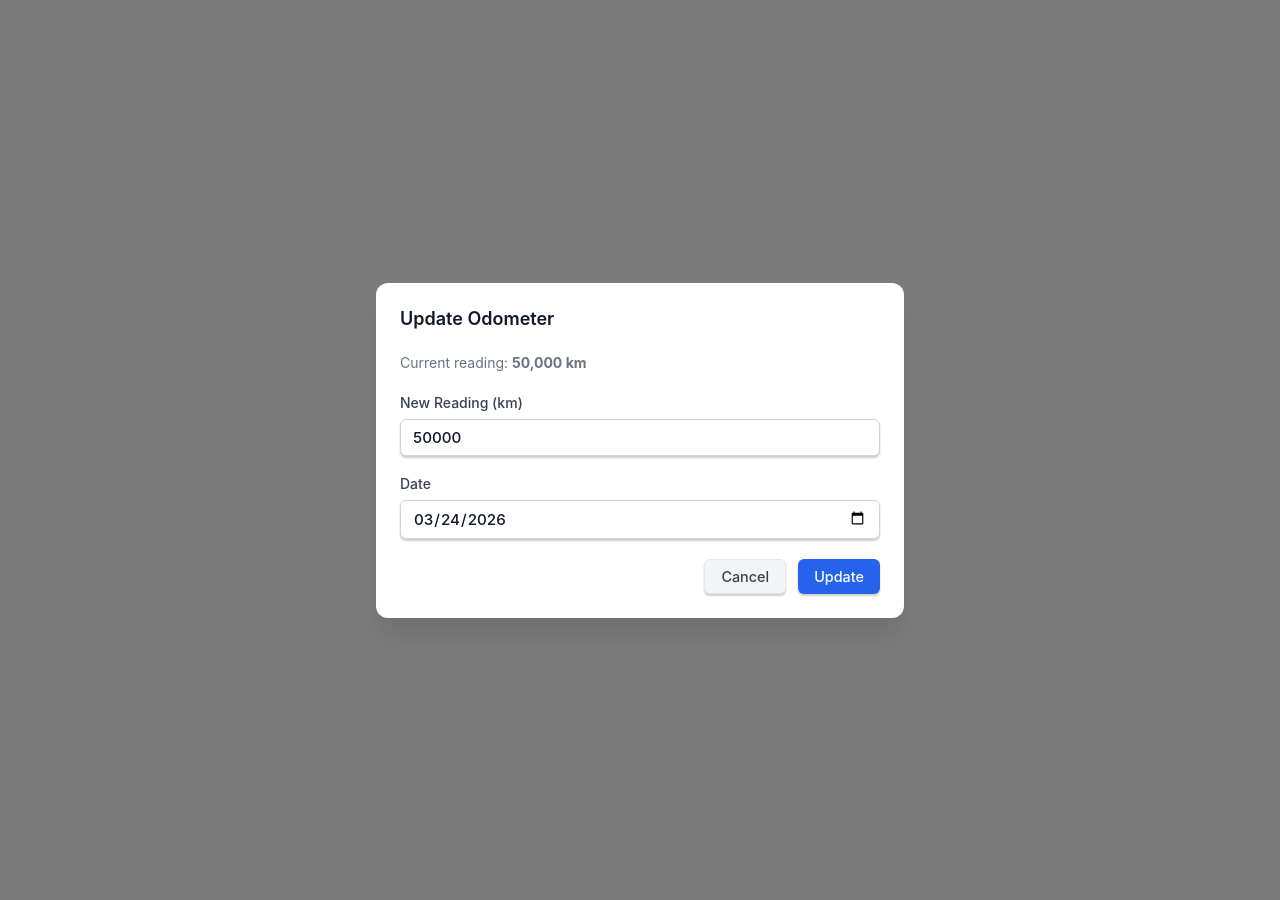
Test: UpdateOdometer › shows inline error when new reading is less than current odometer
Replace the text in the number field with test id "input-reading" with "40000" at (640, 437), box [400,418,880,456]
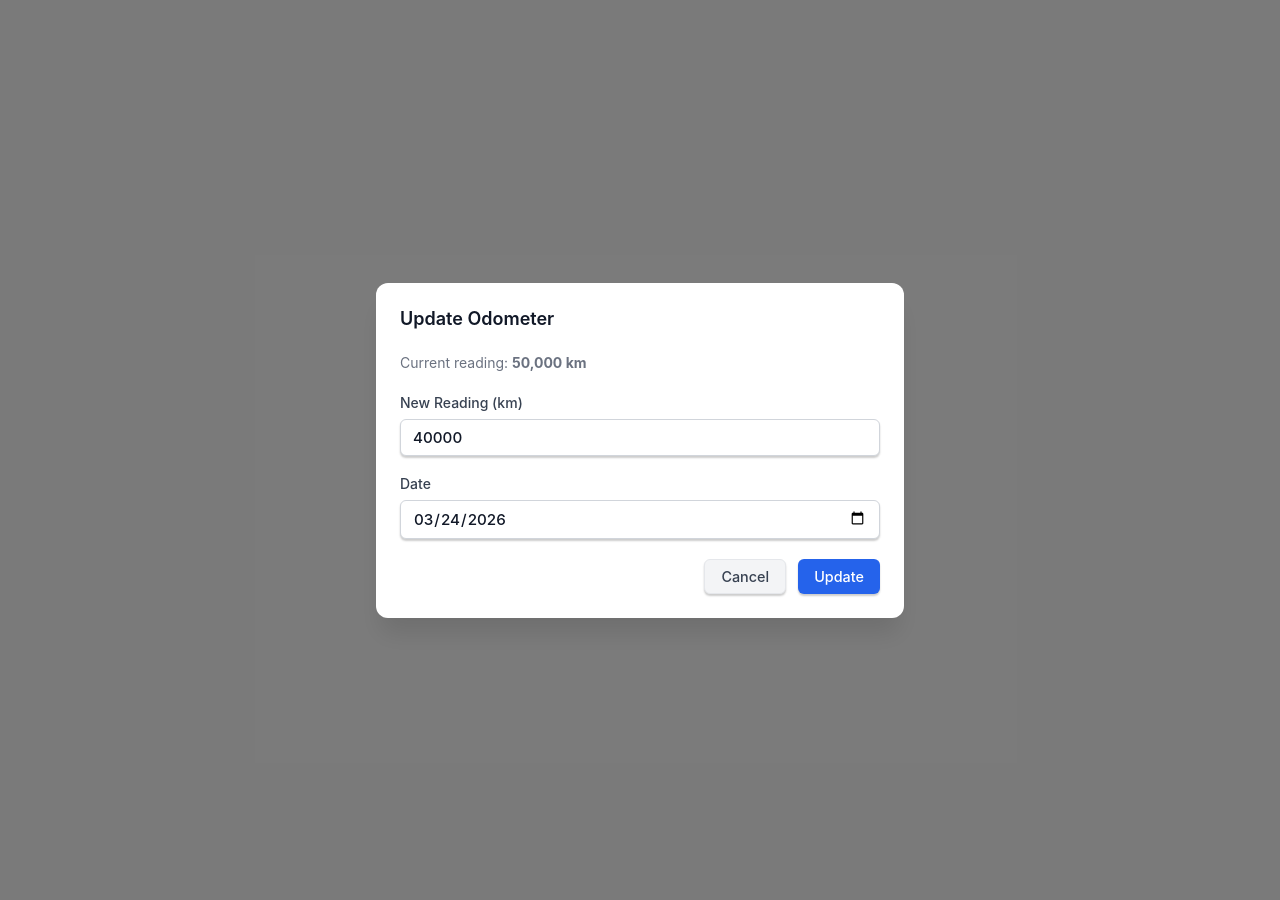
Click the button with test id "btn-submit" at (839, 576), box [798,558,880,594]
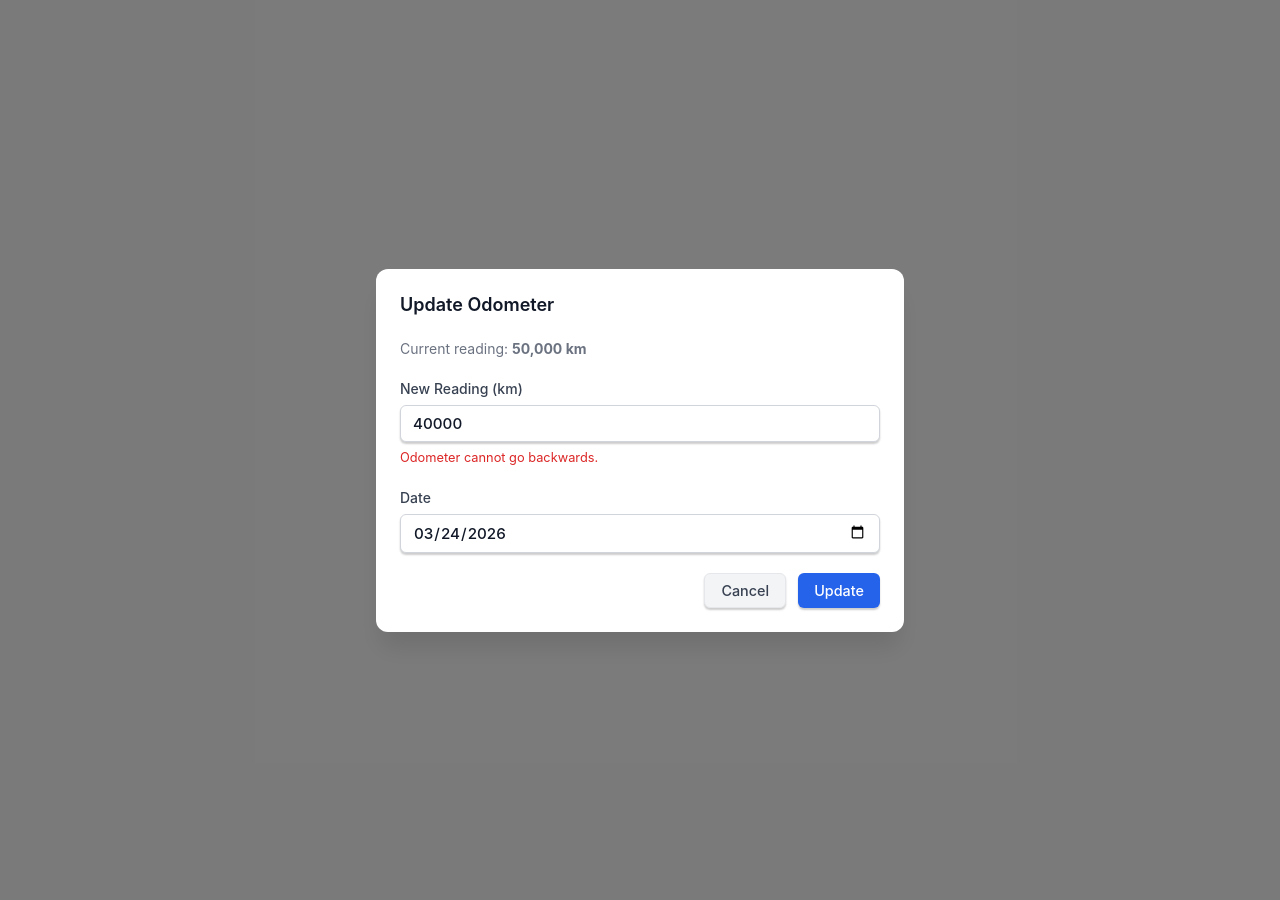
Expected: the text with test id "error-reading" reads "Odometer cannot go backwards.", [400,450,598,464]
